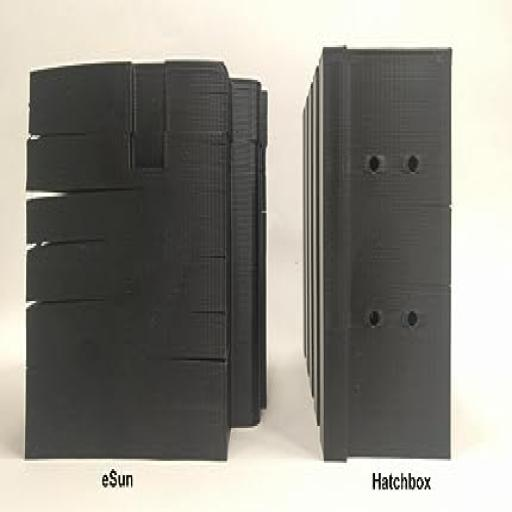cracks: (12, 176, 137, 225), (169, 324, 253, 388), (19, 281, 104, 320), (13, 123, 96, 160), (398, 184, 456, 228), (13, 237, 106, 261)
